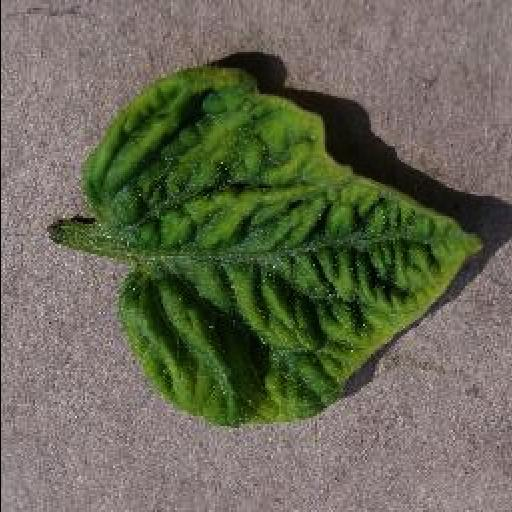disease_tomato: (80, 68, 488, 430)
